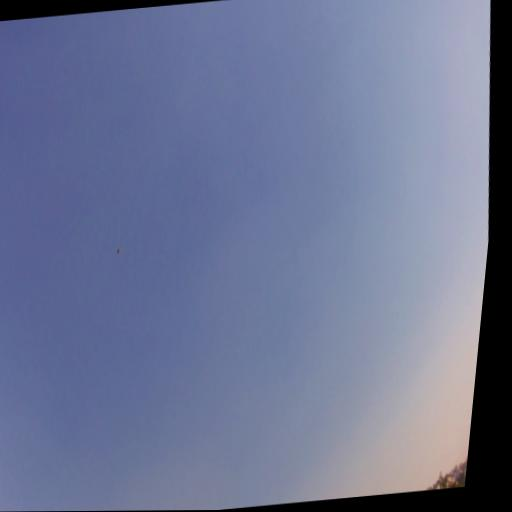drones: (114, 245, 123, 255)
